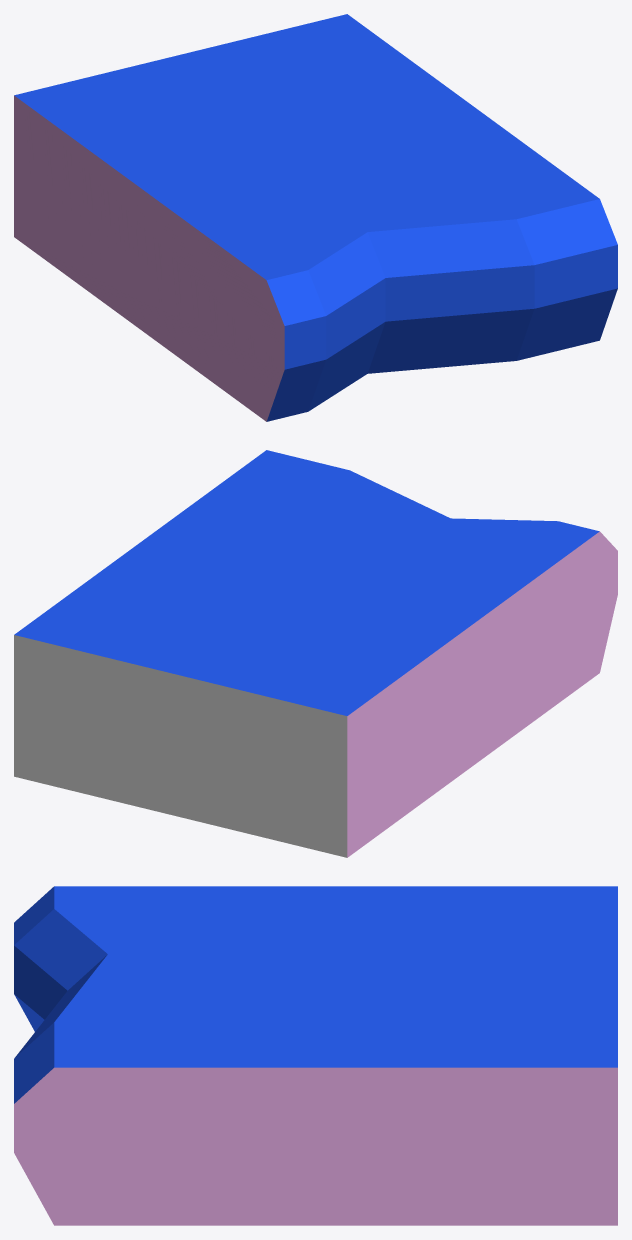
The model's file is Iceberg_Straight_1x2_1.glb.
3 views of the same model, one above another, from view 1: azimuth 30°, elevation 25°; view 2: azimuth 150°, elevation 25°; view 3: azimuth 270°, elevation 25° (orthographic). The views are drawn at different scales.
Visible parts, largest first — view 1: Iceberg_Straight_1x2_1; view 2: Iceberg_Straight_1x2_1; view 3: Iceberg_Straight_1x2_1.
Boxes of the visible parts, bbox=[...] form: Iceberg_Straight_1x2_1: bbox=[14, 14, 617, 421]; Iceberg_Straight_1x2_1: bbox=[14, 450, 617, 857]; Iceberg_Straight_1x2_1: bbox=[14, 886, 617, 1225].
Size of the model in its own units: 100 by 40.62 by 141.
